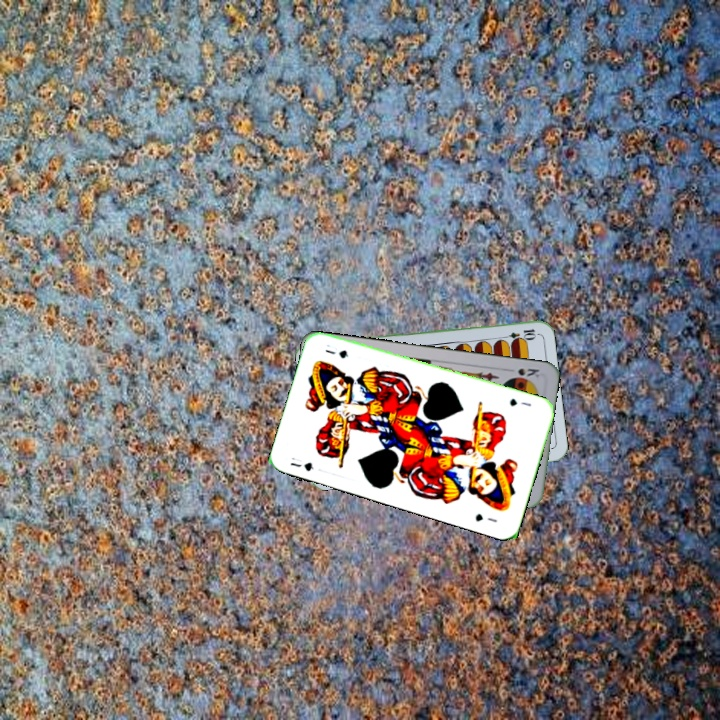E10: (498, 325, 538, 343)
GU: (286, 453, 316, 474), (505, 394, 534, 409)
SK: (506, 364, 542, 382)
